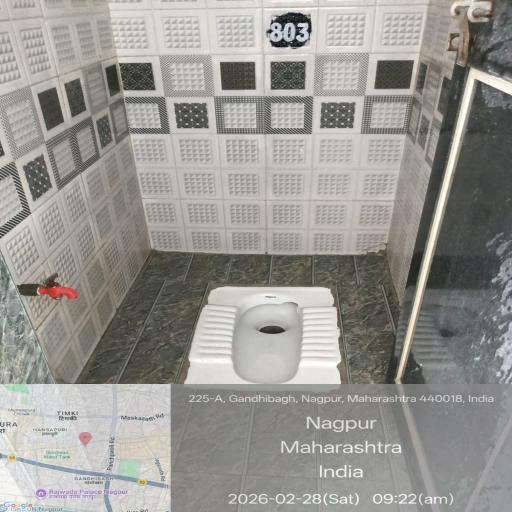clean_floor: (17, 12, 445, 243), (7, 326, 512, 512)
clean_indian: (196, 280, 346, 407)
